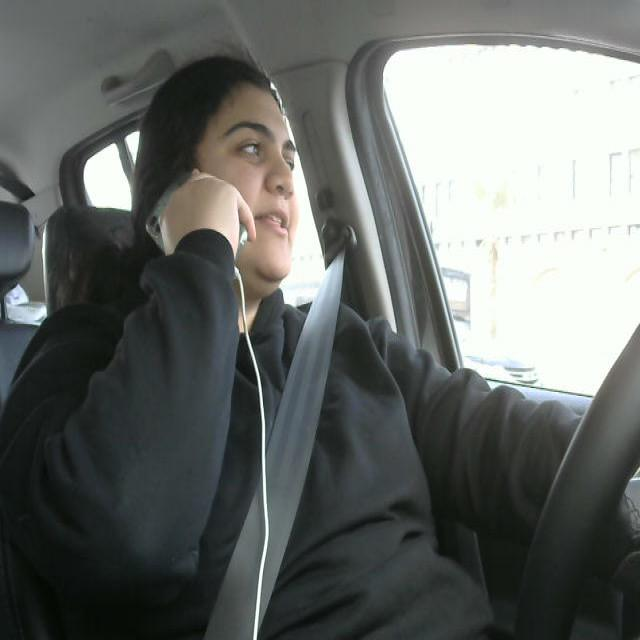mobile use: (143, 157, 251, 288)
